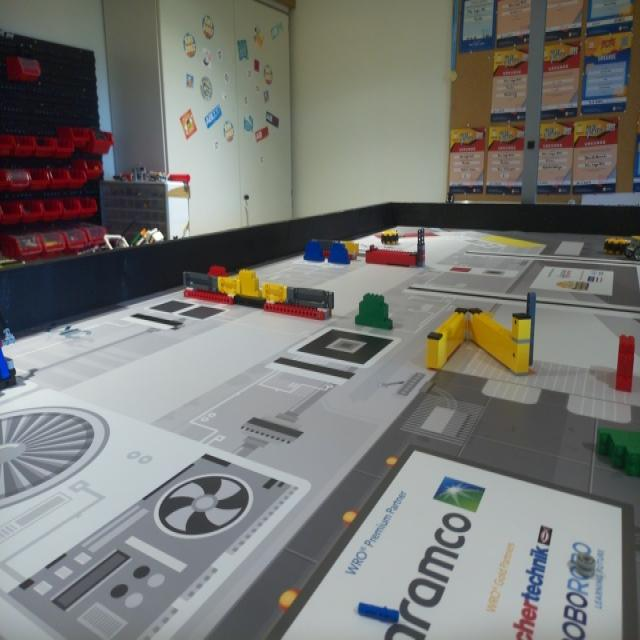blau: (324, 240, 351, 267), (302, 238, 328, 264)
gruen: (578, 411, 640, 476), (354, 288, 400, 332)
rot: (609, 332, 639, 394), (204, 264, 230, 286)
yellow: (234, 267, 262, 299)
